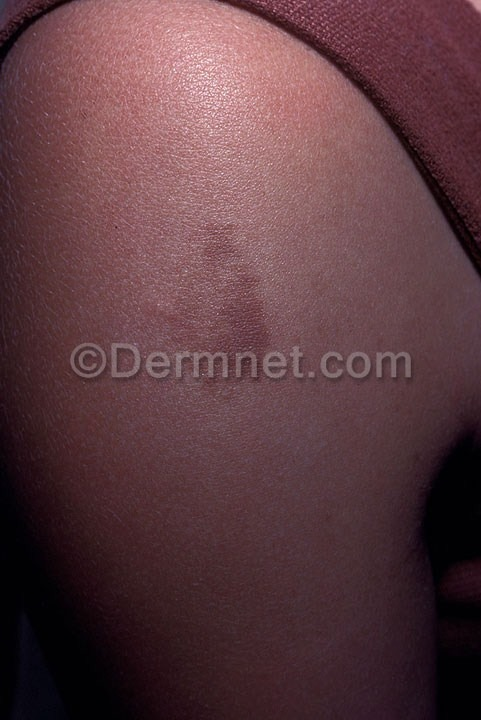Melasma: (160, 217, 300, 349)
